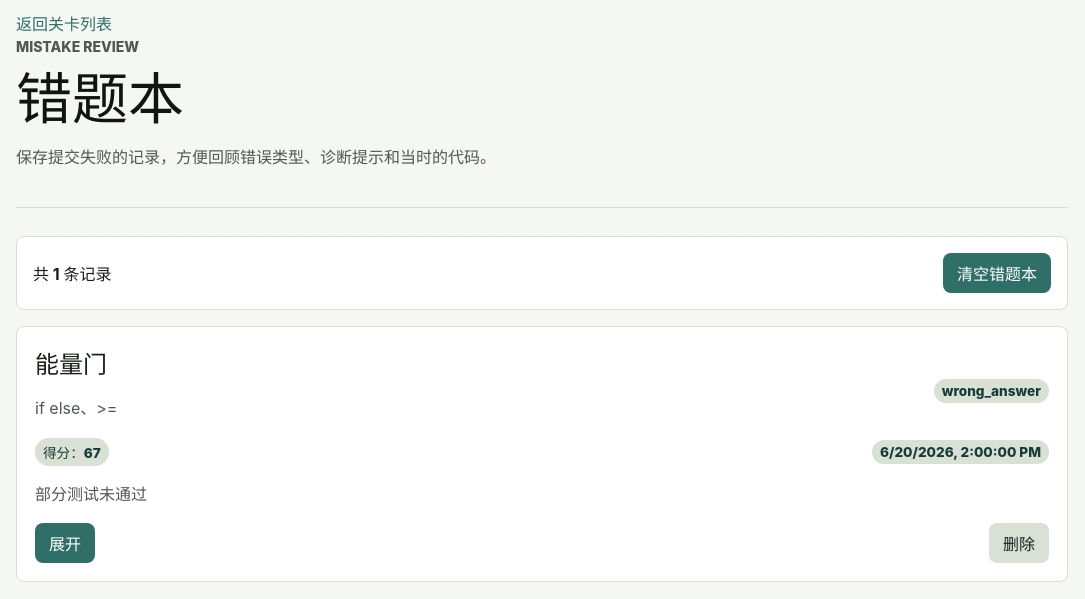
Test case: App › clears all mistake records
This screenshot has width=1085, height=599.
Step 1. Click the button "清空错题本" → click(997, 273), box [943,253,1051,293]
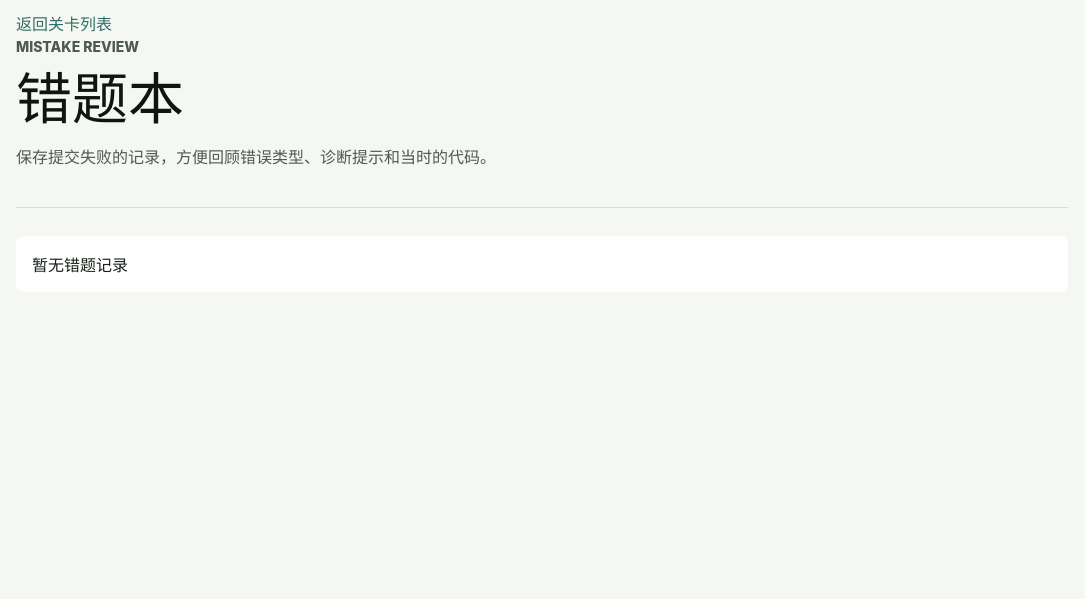
Expected: the text "暂无错题记录" is shown, [16,236,1068,292]
